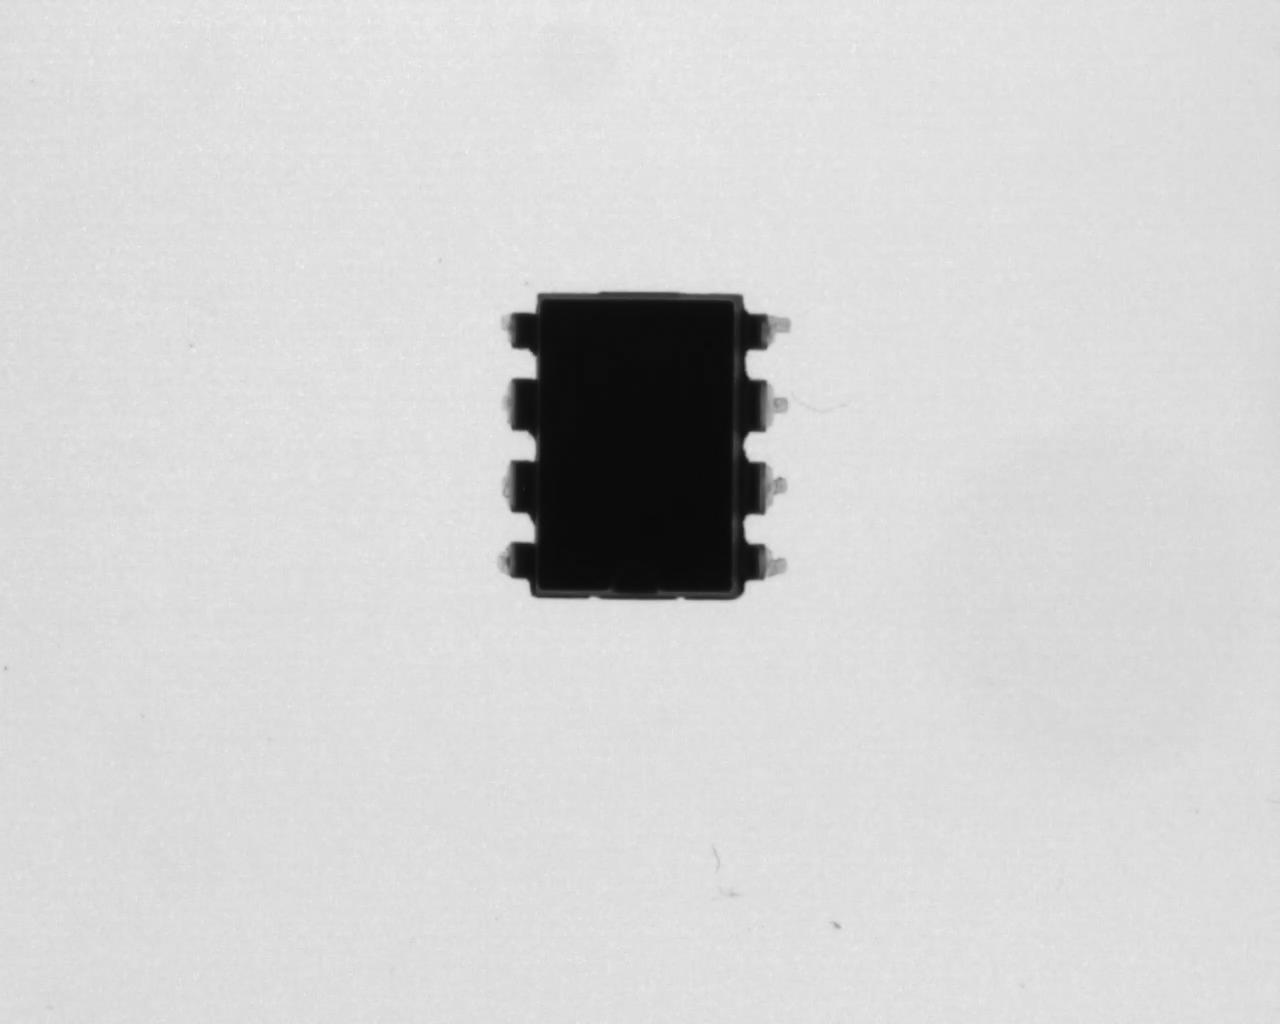Leg: (746, 448, 796, 520), (737, 373, 793, 435), (488, 370, 544, 427), (741, 530, 797, 587), (739, 307, 797, 354), (490, 306, 549, 351), (484, 536, 537, 584), (490, 458, 537, 511)
